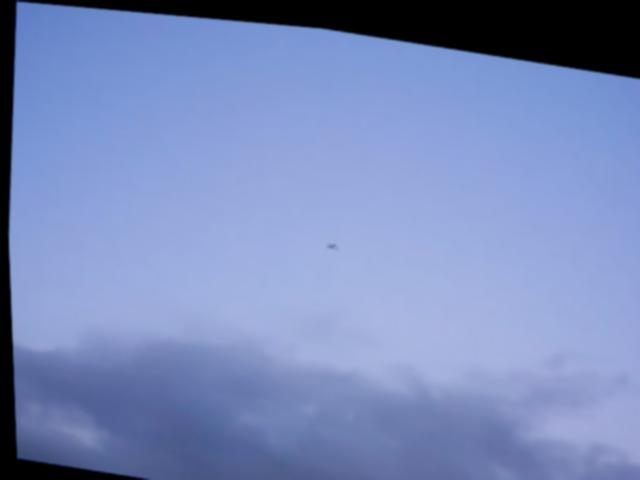uav: (321, 230, 340, 247)
